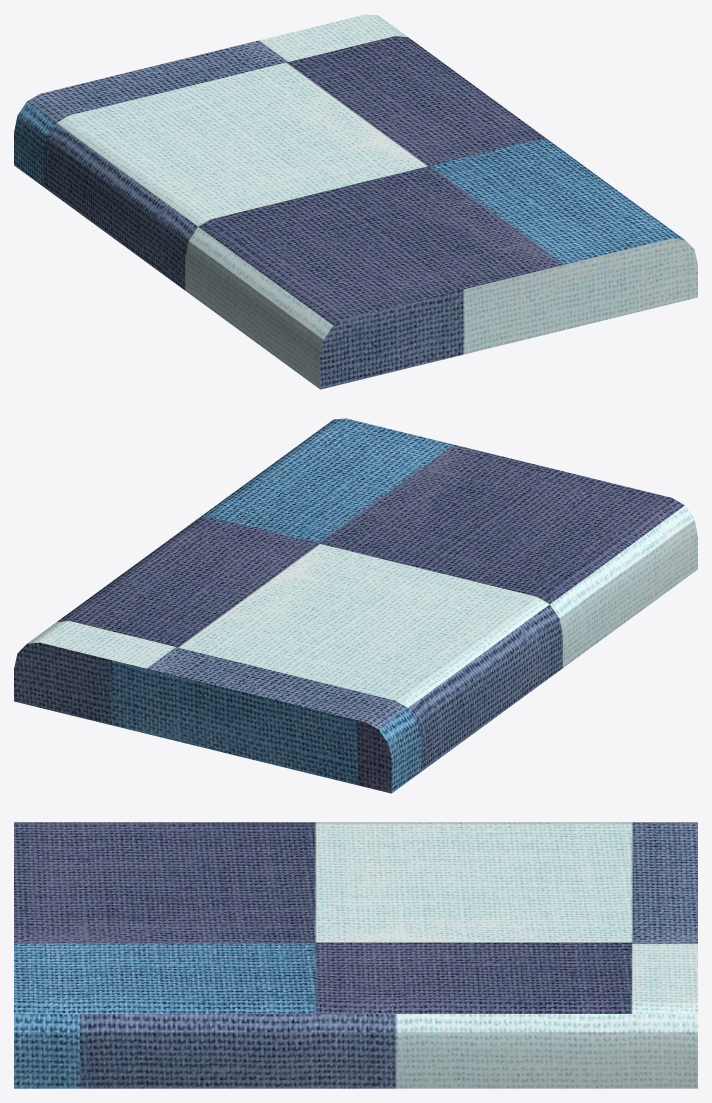
File: mattress.obj
The picture shows the model from 3 angles, top to bottom: view 1: azimuth 30°, elevation 25°; view 2: azimuth 150°, elevation 25°; view 3: azimuth 270°, elevation 25°; orthographic projection. The views are drawn at different scales.
Visible parts, largest first — view 1: polySurface117 polySurface88; view 2: polySurface117 polySurface88; view 3: polySurface117 polySurface88.
Part boxes in pixels (x1,y1,x2,y2): polySurface117 polySurface88: (14, 14, 697, 389); polySurface117 polySurface88: (14, 418, 697, 793); polySurface117 polySurface88: (14, 822, 697, 1088).
Size of the model in its own units: 4.94 by 0.8139 by 6.94.
Materials: 1 (1 with a texture image).
